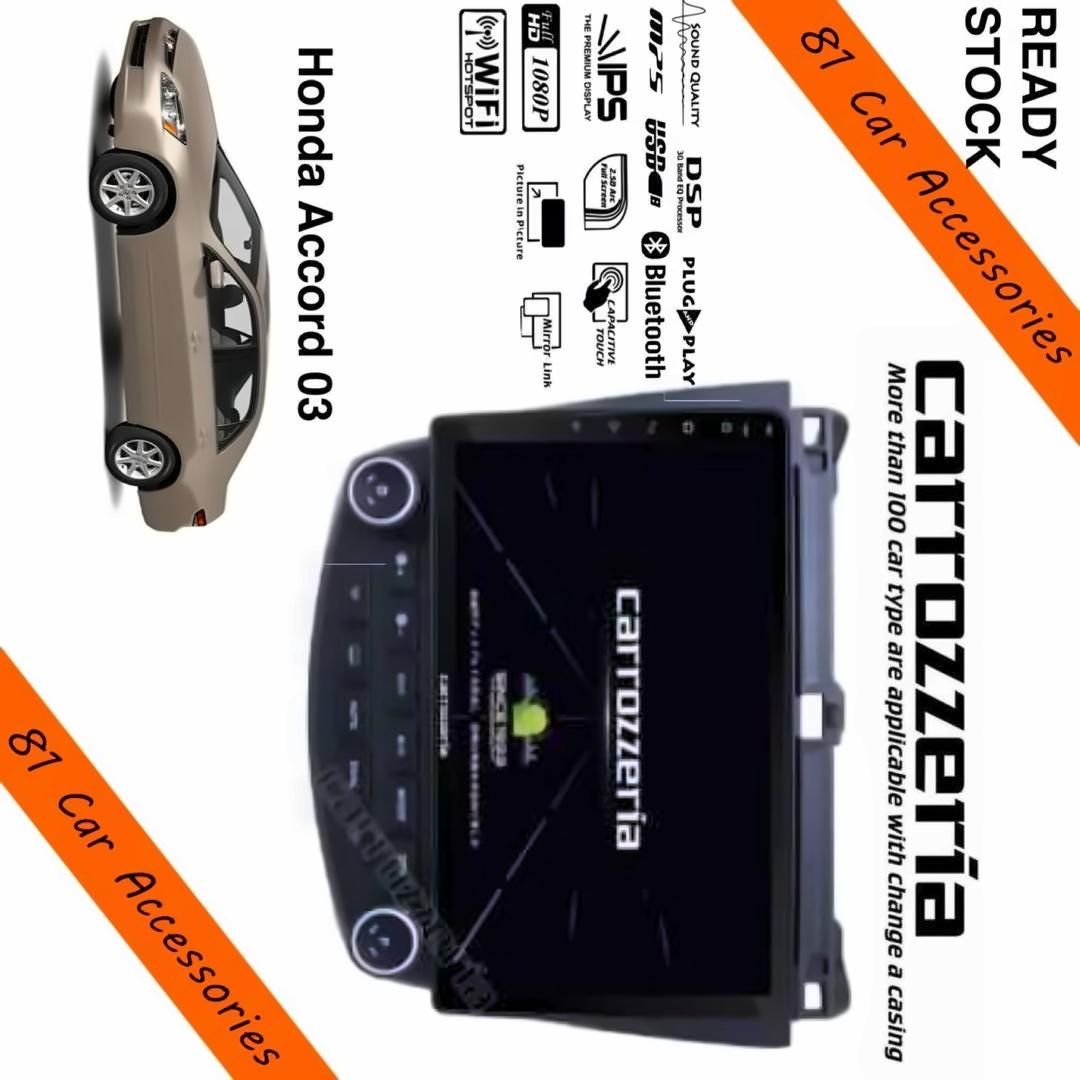Car hood: (178, 24, 217, 207)
Fender - -F-L-: (114, 149, 238, 249)
Fender - -R-L-: (120, 411, 226, 488)
Front bumper: (108, 10, 170, 174)
Headlight - -L-: (155, 61, 190, 152)
Passenger-s door - -F-L-: (151, 236, 262, 350)
Passenger-s door - -R-L-: (154, 349, 276, 456)
Rear bumper: (135, 481, 186, 544)
Rear light - -L-: (184, 503, 220, 533)
Side bumper - -L-: (105, 229, 159, 438)
Side mirror - -L-: (190, 248, 234, 296)
